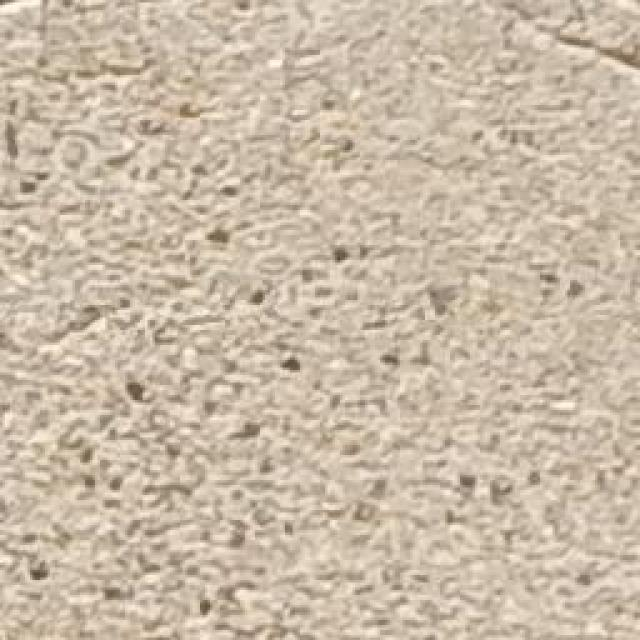concrete-crack: (476, 4, 640, 78)
